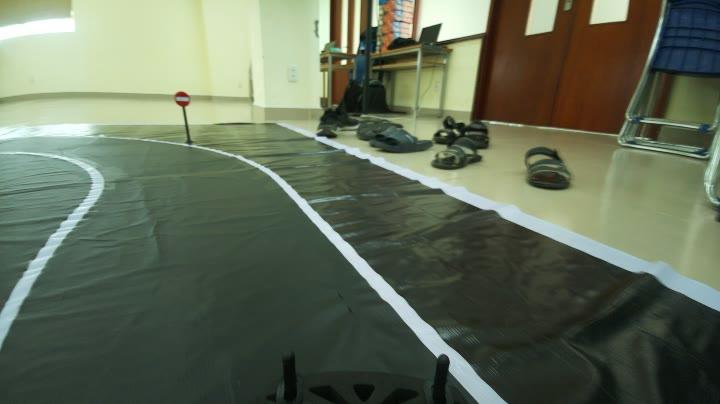no_entry: (170, 90, 194, 108)
